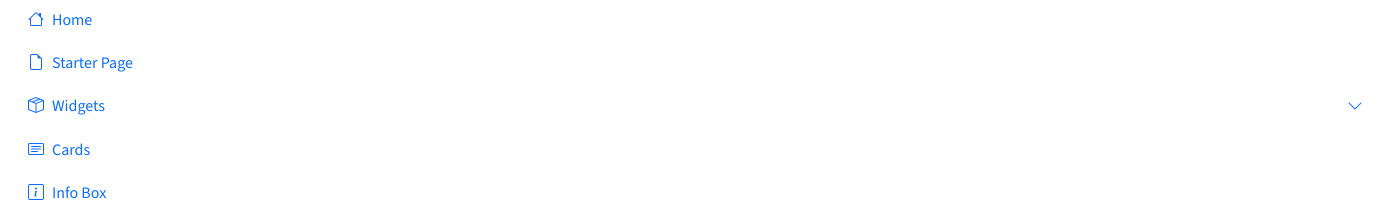
SidebarMenu › closes an open group when its toggle is clicked
Click the button with class "nav-link" showing "Widgets" at (78, 106), box [12,86,1378,126]
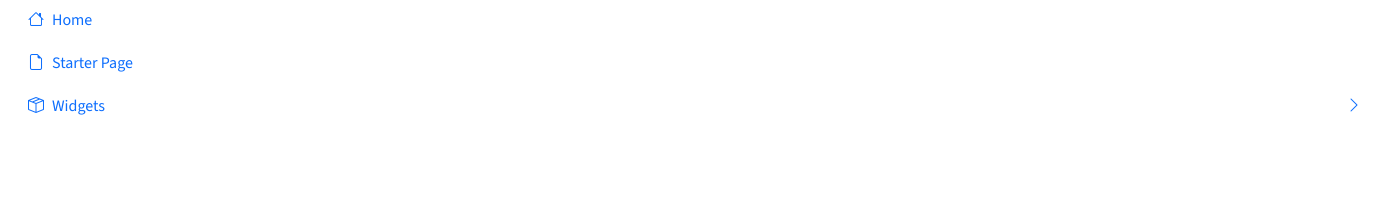
Check: the button with class "nav-link" is collapsed, box [12,86,1378,126]
